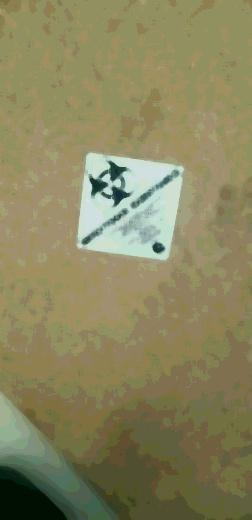infectious-substance: (75, 152, 186, 261)
